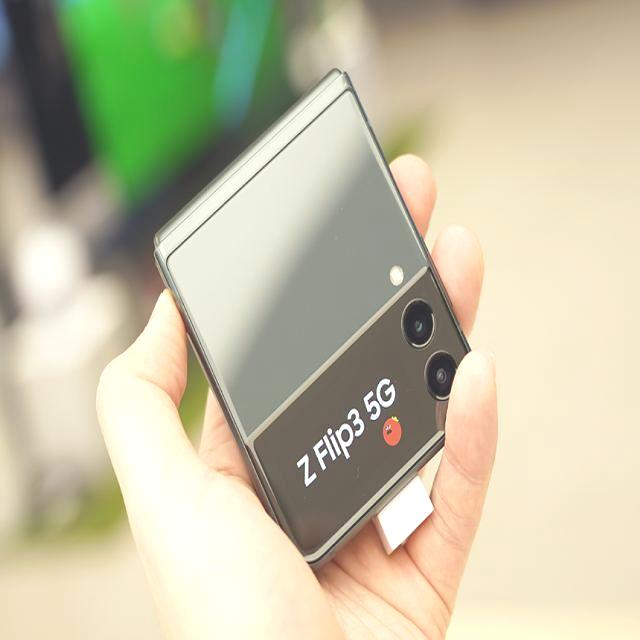lens: (395, 289, 467, 411)
phone: (152, 66, 476, 574)
